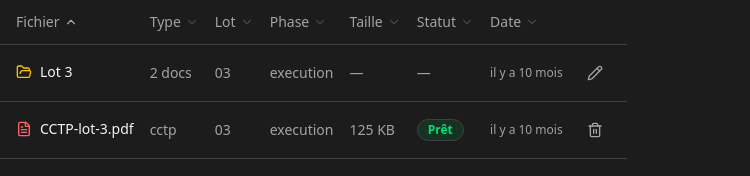
Test: DocumentList — état d'édition contrôlé / non contrôlé › mode non contrôlé : cliquer sur Renommer affiche InlineFolderRename via l'état interne seul
Click the button named "Renommer le dossier": (595, 73) [579,57,611,89]
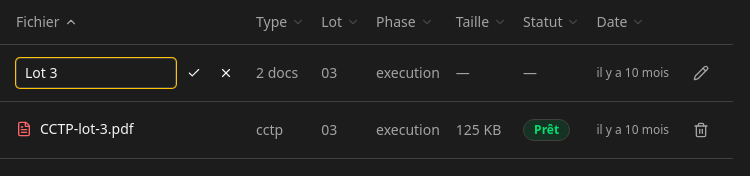
expect the field holds "Lot 3": met, box [16,58,176,88]
